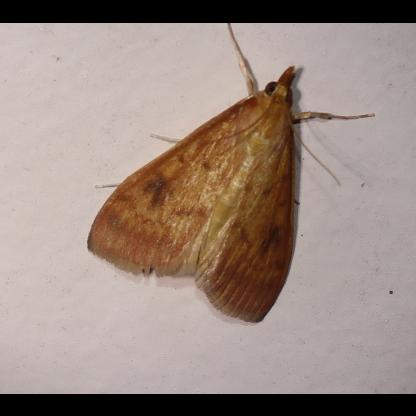Asian Corn Borer Moth: (82, 23, 378, 328)
